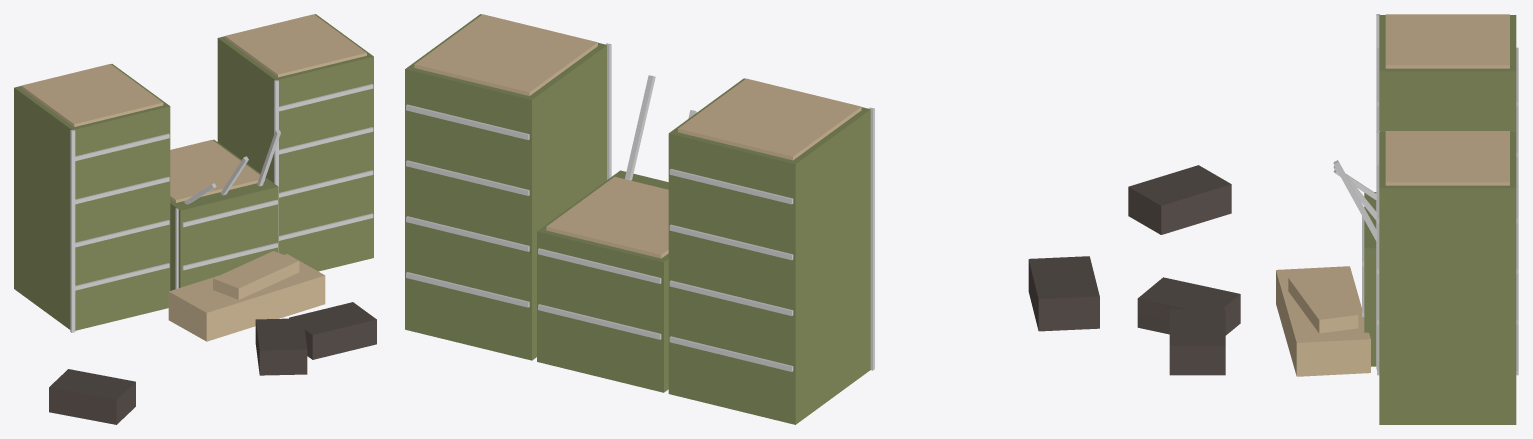
Rendered from SM_HescoCorto3_v0_MallaLimpia_e1_Danado_LOD0.fbx.
3 renders of one model, left to right at view 1: azimuth 30°, elevation 25°; view 2: azimuth 150°, elevation 25°; view 3: azimuth 270°, elevation 25°, orthographic. The views are drawn at different scales.
Parts seen in each view (by area): view 1: SM_hesco_piezas_v81_LOD0; view 2: SM_hesco_piezas_v81_LOD0; view 3: SM_hesco_piezas_v81_LOD0.
Part boxes in pixels (left/top/right/bottom): SM_hesco_piezas_v81_LOD0: left=14, top=14, right=376, bottom=424; SM_hesco_piezas_v81_LOD0: left=405, top=14, right=1099, bottom=424; SM_hesco_piezas_v81_LOD0: left=1128, top=14, right=1518, bottom=424.
Bounding box in the file's own units: 4.39 × 2.13 × 3.14.
